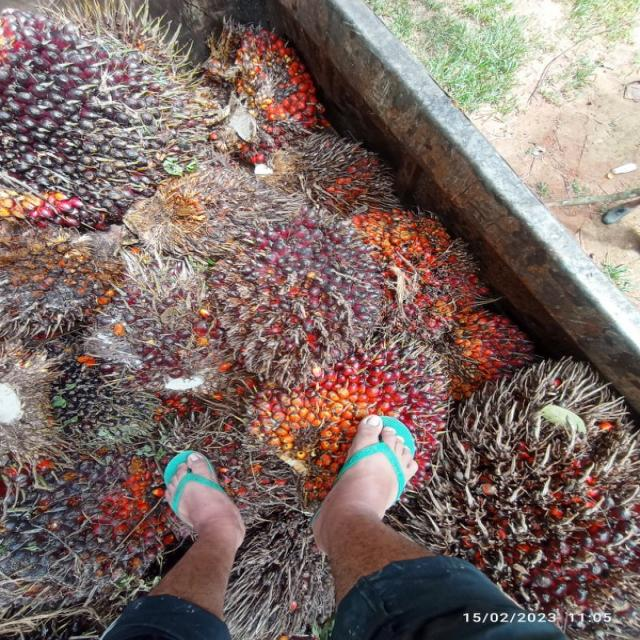fraksi 00: (39, 330, 146, 448)
fraksi 1: (198, 196, 421, 404), (106, 258, 210, 385)
fraksi 3: (0, 5, 174, 240), (338, 181, 474, 304), (432, 287, 546, 405)
